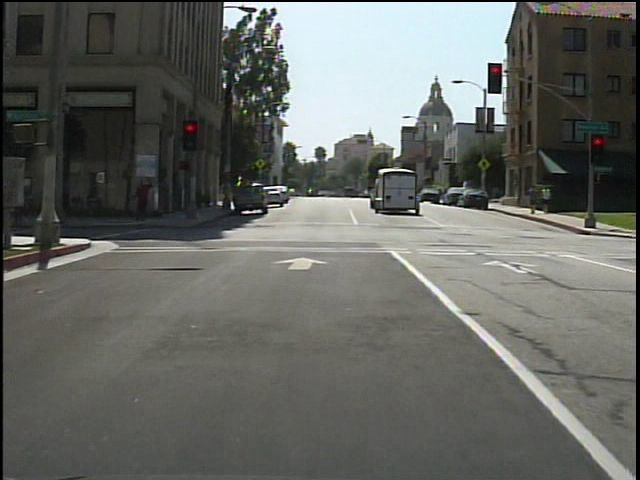person: (133, 175, 159, 223), (527, 184, 541, 218), (540, 186, 555, 217)
